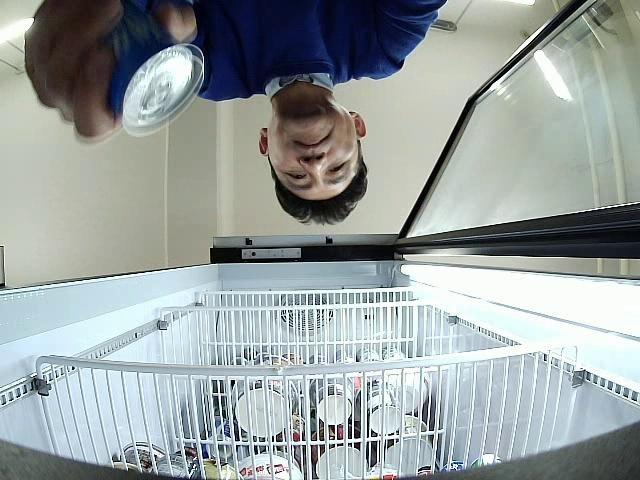15_letsbe: (108, 1, 206, 138)
